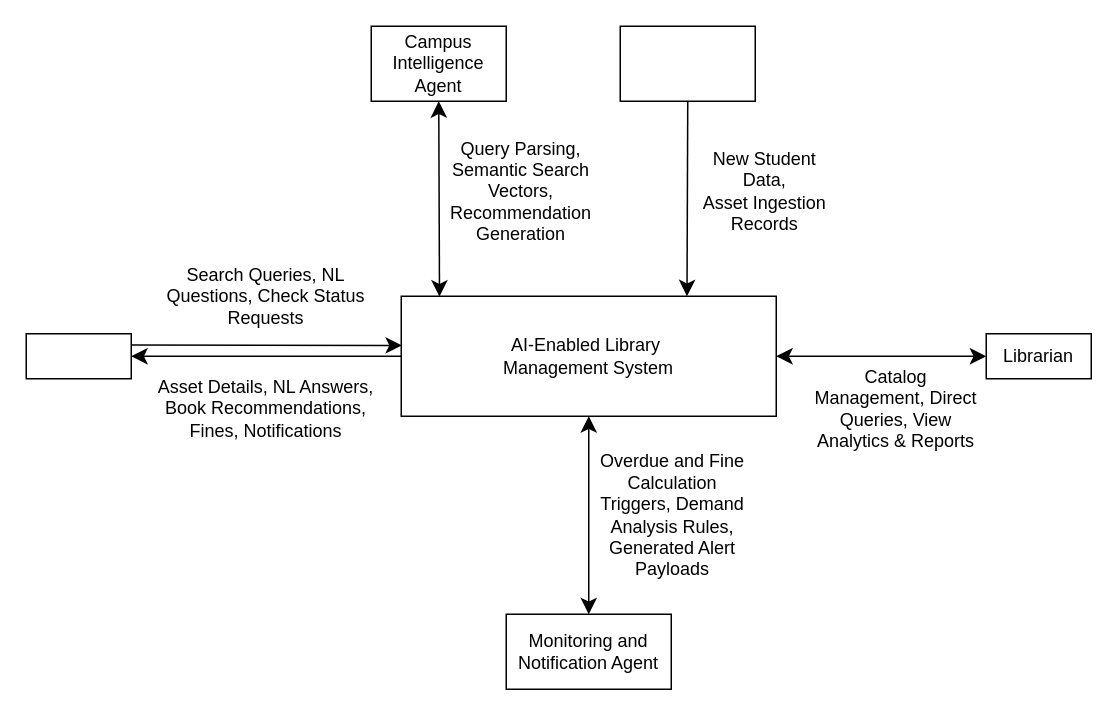
Image size: 1118x716. Some labels were removed from this diagram. Here are the shapes that lost their labels. From the top down, the box of each, then its label:
(619, 25, 755, 101): Student Onboarding Agent
(25, 332, 131, 379): Student
